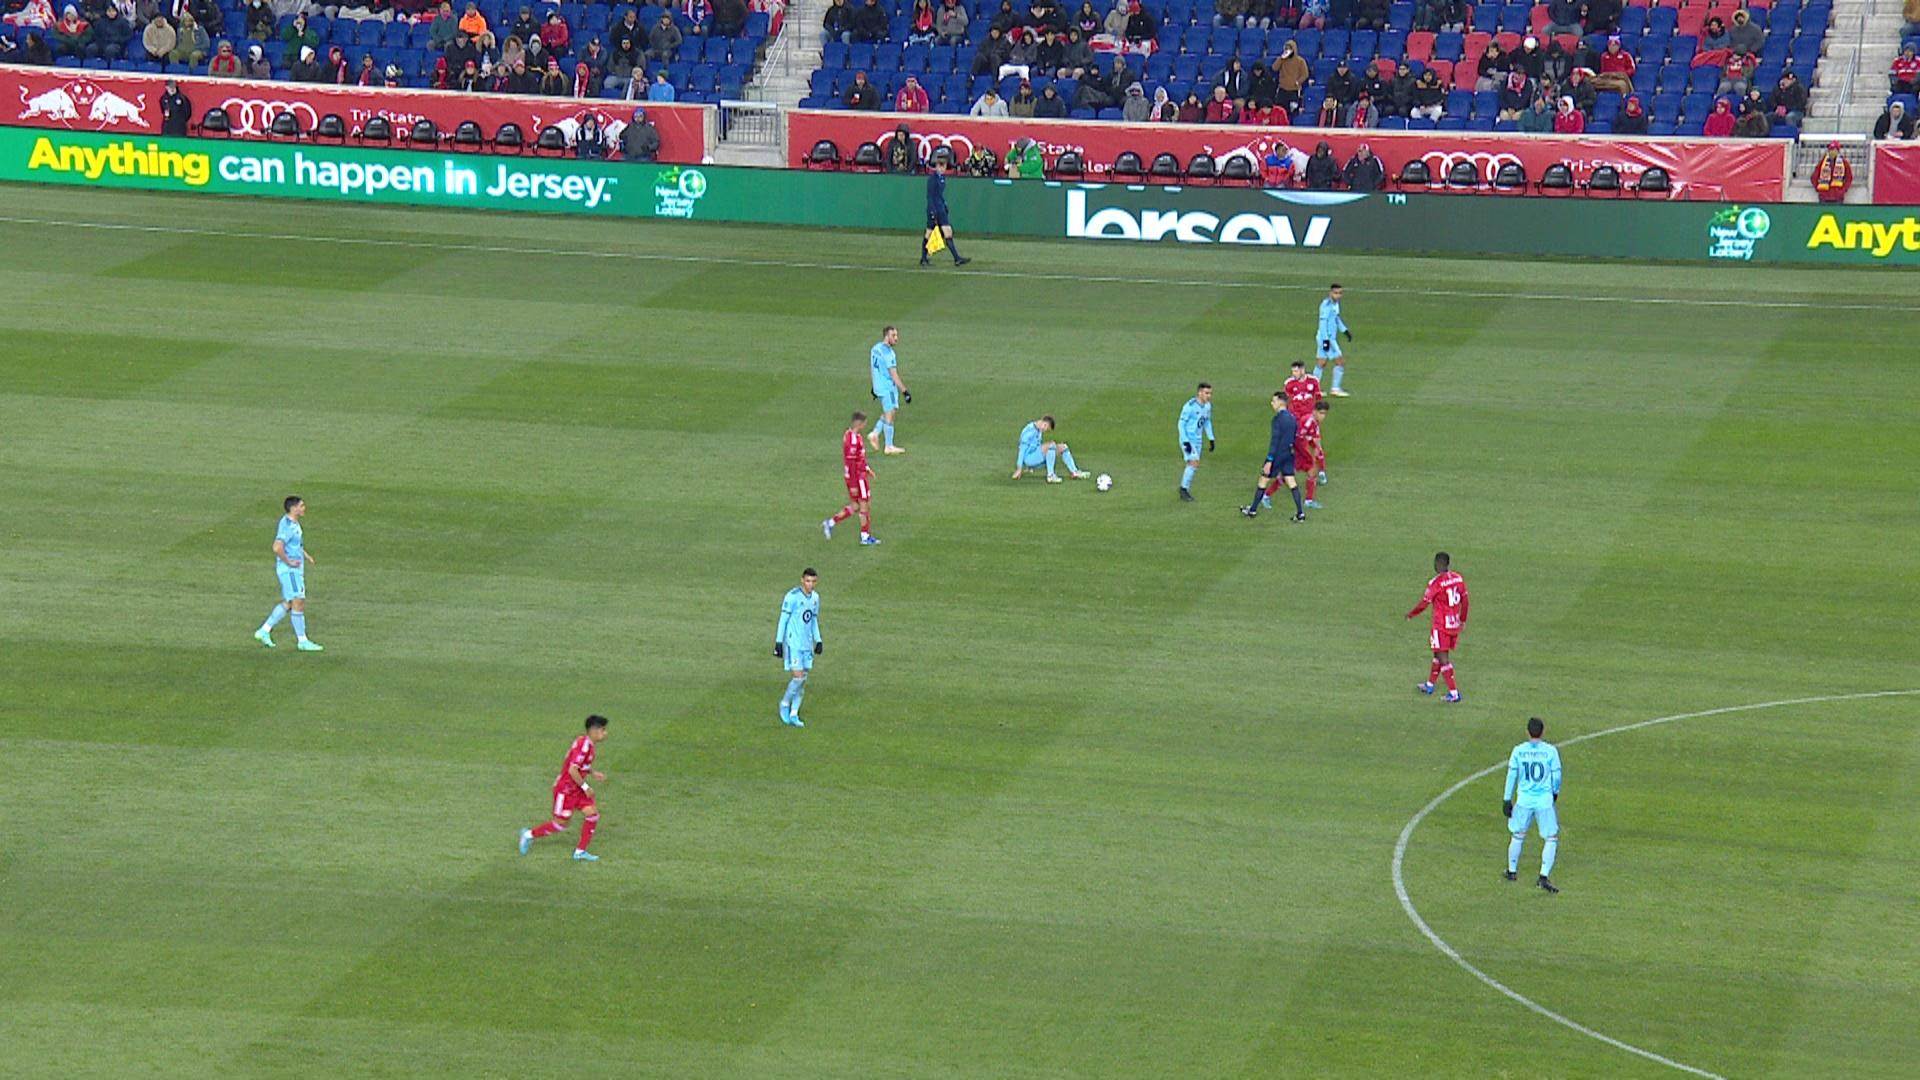football: (1097, 473, 1113, 492)
